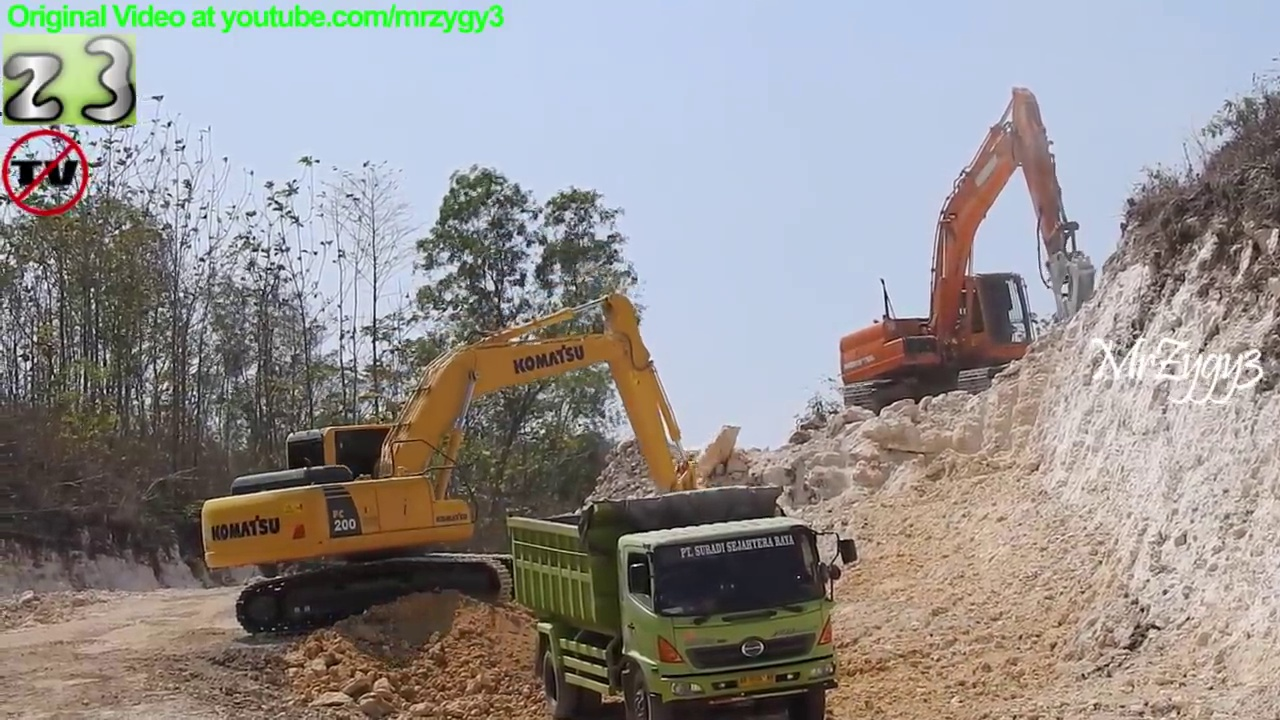excavator: (198, 292, 760, 640), (833, 81, 1100, 420)
truck: (509, 479, 864, 720)
